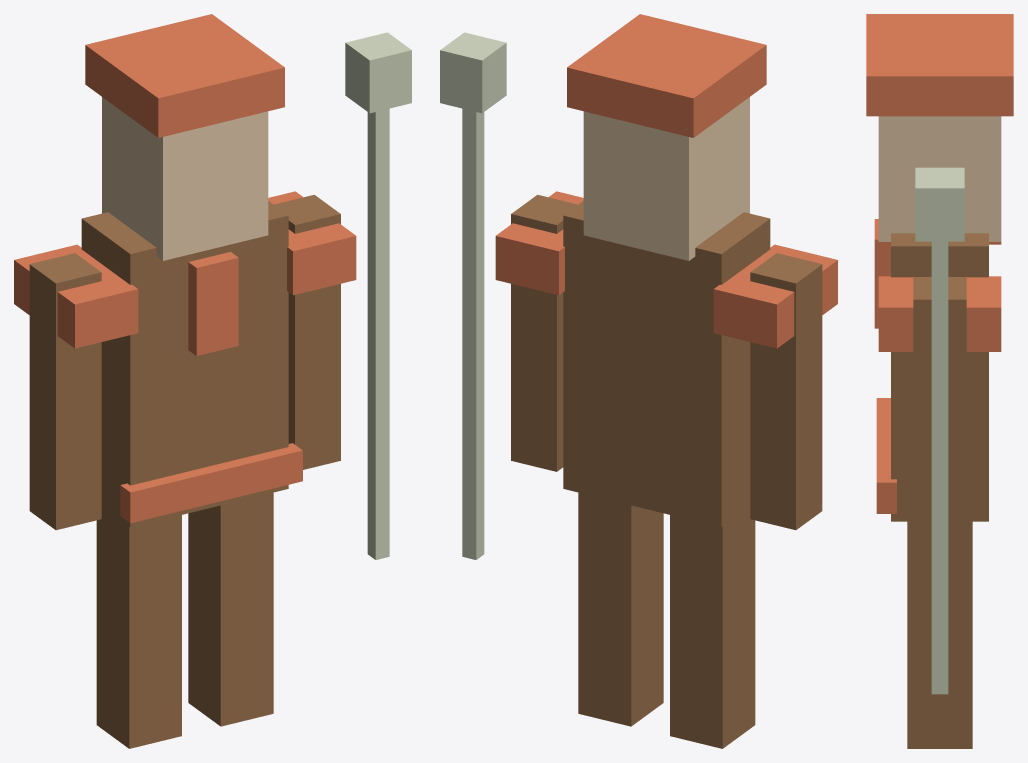
Rendered from 15_vale_glassroot_ranger_of_dustline.glb.
3 views of the same model, side by side, from view 1: azimuth 30°, elevation 25°; view 2: azimuth 150°, elevation 25°; view 3: azimuth 270°, elevation 25° (orthographic).
Visible parts, largest first — view 1: Vale Glassroot, Ranger of Dustline; view 2: Vale Glassroot, Ranger of Dustline; view 3: Vale Glassroot, Ranger of Dustline.
Part boxes in pixels (x1,y1,x2,y2): Vale Glassroot, Ranger of Dustline: (14, 14, 411, 748); Vale Glassroot, Ranger of Dustline: (440, 14, 837, 748); Vale Glassroot, Ranger of Dustline: (866, 14, 1013, 748).
Size of the model in its own units: 0.9506 by 1.69 by 0.3371.
